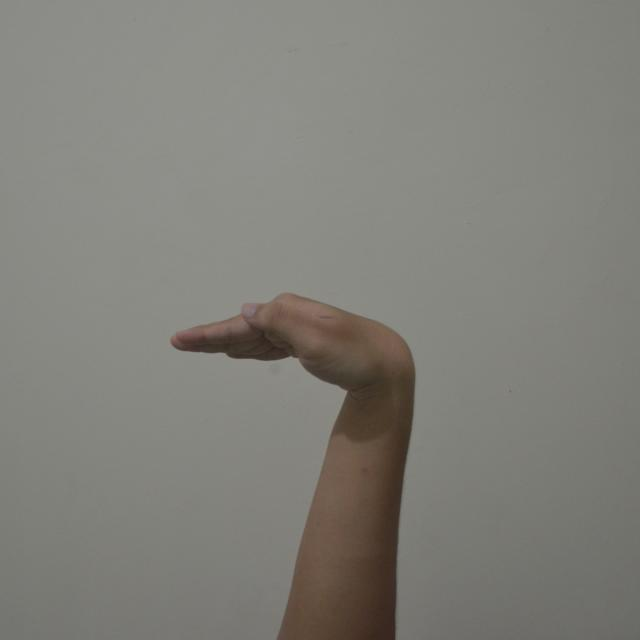Z: (163, 276, 427, 639)
